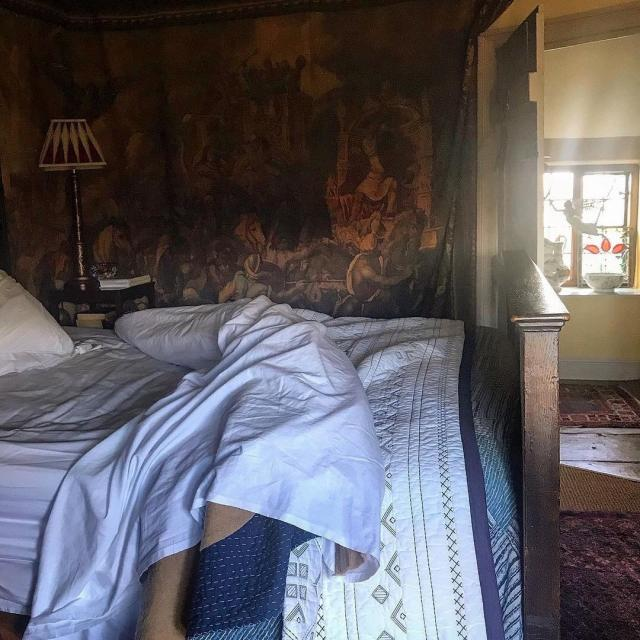bed: (0, 244, 528, 640)
